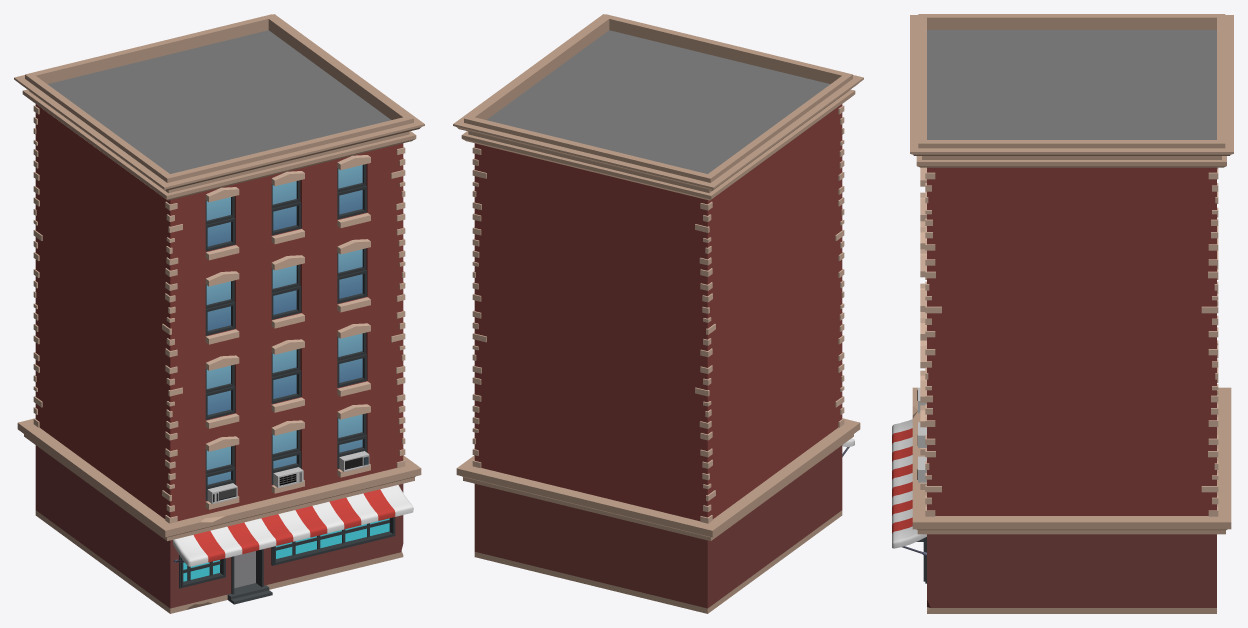
File: SM_Buildings_House_09_V1.fbx
3 renders of one model, left to right at view 1: azimuth 30°, elevation 25°; view 2: azimuth 150°, elevation 25°; view 3: azimuth 270°, elevation 25°, orthographic. The views are drawn at different scales.
Parts seen in each view (by area): view 1: SM_Buildings_House_09_V1; view 2: SM_Buildings_House_09_V1; view 3: SM_Buildings_House_09_V1.
Part boxes in pixels (bbox=[...]): SM_Buildings_House_09_V1: bbox=[14, 14, 424, 613]; SM_Buildings_House_09_V1: bbox=[453, 14, 863, 613]; SM_Buildings_House_09_V1: bbox=[892, 14, 1233, 613].
Bounding box in the file's own units: 9.5 × 15.33 × 10.03.
